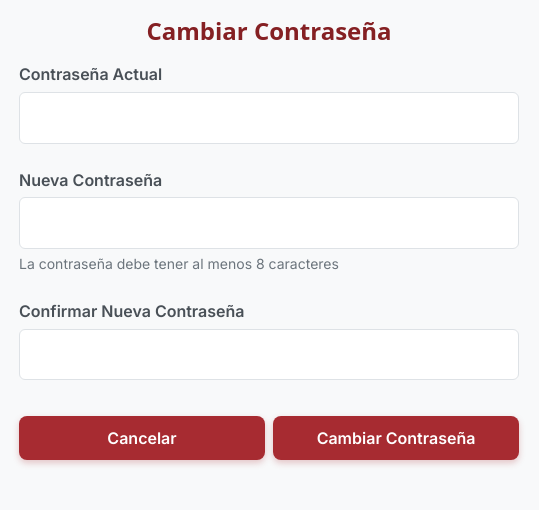
Scenario: ChangePasswordForm › should show error when passwords do not match
Fill the form with non-matching passwords
Type "currentPass123" into the password field labelled "Contraseña Actual" at (269, 118), box [19,92,519,144]
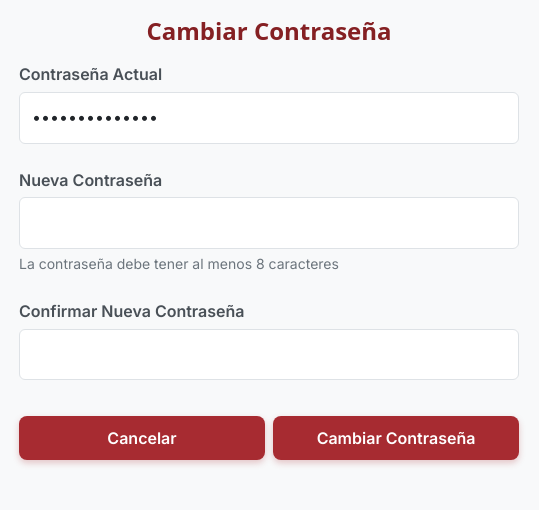
Type "newPass123" into the password field with test id "new-password-input" at (269, 223), box [19,197,519,249]
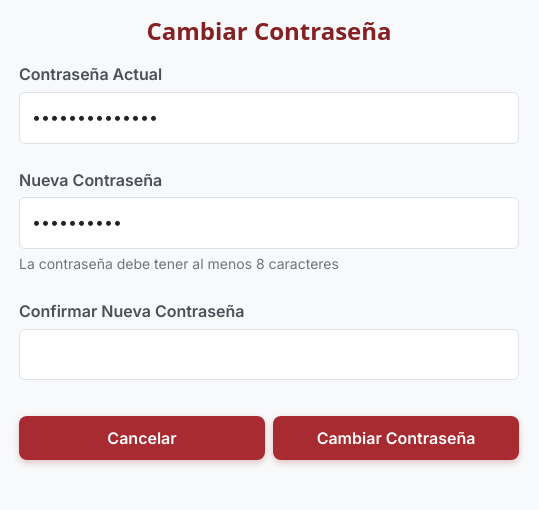
Type "differentPass123" into the password field with test id "confirm-password-input" at (269, 355), box [19,329,519,380]
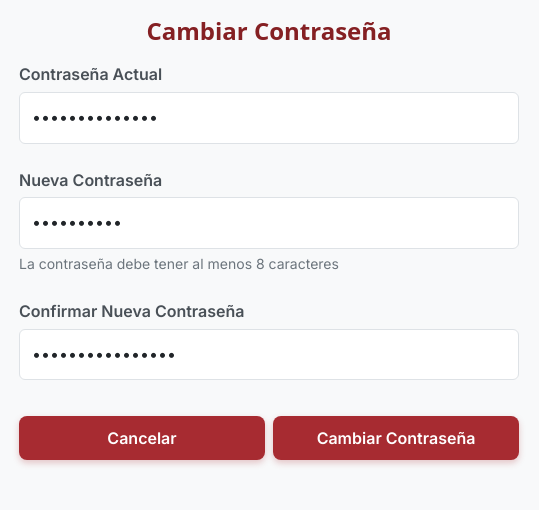
Submit the form
Click the button "Cambiar Contraseña" at (396, 438), box [273,416,519,460]
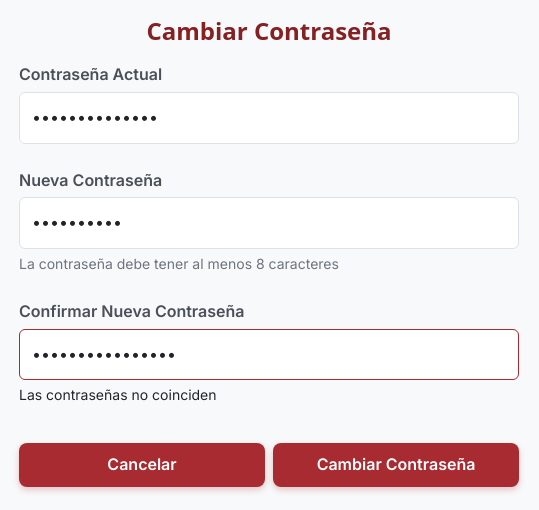
expect the text "Las contraseñas no coinciden" is shown: met, box [19,386,216,403]
